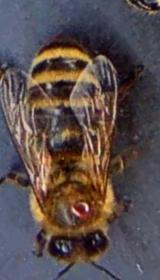varroa_mite: (58, 188, 104, 231)
